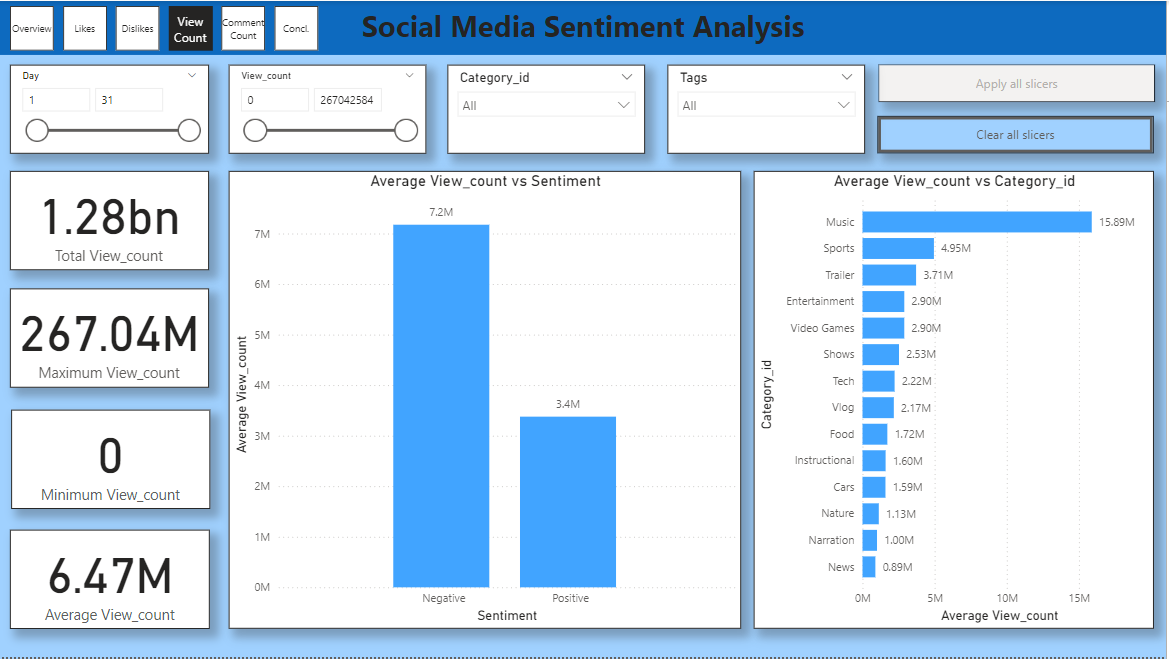

What the dashboard file says about the page in this screenshot:
{"tool":"powerbi","page":{"name":"View Count","canvas":[1280,720],"ordinal":3},"visuals":[{"type":"shape","box":[0,0,1280.3,59],"z":0},{"type":"textbox","box":[0,0,1280.3,59],"z":1000},{"type":"slicer","fields":{"Values":["gold_df (2).Published_at.Variation.Date Hierarchy.Day"]},"box":[11,70,218.2,97.4],"z":2000},{"type":"card","fields":{"Values":["Avg(gold_df (2).View_count)"]},"box":[11,580.4,219.6,108.4],"z":3000},{"type":"card","fields":{"Values":["Sum(gold_df (2).View_count)"]},"box":[11,186.6,218.2,108.4],"z":4000},{"type":"card","fields":{"Values":["Min(gold_df (2).View_count)"]},"box":[12.3,448.7,218.2,108.4],"z":5000},{"type":"card","fields":{"Values":["Max(gold_df (2).View_count)"]},"box":[11,315.6,218.2,108.4],"z":6000},{"type":"pageNavigator","box":[11,5.5,341,49.4],"z":7000},{"type":"slicer","fields":{"Values":["gold_df (2).View_count"]},"box":[251.1,70,216.8,97.4],"z":8000},{"type":"clusteredColumnChart","title":"Average View_count vs Sentiment","fields":{"Category":["gold_df (2).Sentiment"],"Y":["Avg(gold_df (2).View_count)"]},"box":[251.1,186.6,562.6,502.2],"z":9000},{"type":"clusteredBarChart","title":"Average View_count vs Category_id","fields":{"Y":["Avg(gold_df (2).View_count)"],"Category":["gold_df (2).Category_id"]},"box":[827.4,186.6,439.1,502.2],"z":10000},{"type":"actionButton","box":[964.7,70,303.3,41.2],"z":11000},{"type":"actionButton","box":[963.3,126.2,303.3,41.2],"z":12000},{"type":"slicer","fields":{"Values":["gold_df (2).Category_id"]},"box":[491.3,70,216.8,97.4],"z":13000},{"type":"slicer","fields":{"Values":["gold_df (2).Tags"]},"box":[732.8,70,216.8,97.4],"z":14000}]}

Visuals, with their boxes in screenshot pixels (x1, y1, x2, y2), scaled from the page's 1280x720 canvas onto the 1169x659 screenshot:
shape: <box>0,0,1168,54</box>
textbox: <box>0,0,1168,54</box>
slicer - gold_df (2).Published_at.Variation.Date Hierarchy.Day: <box>10,64,209,153</box>
card - Avg(gold_df (2).View_count): <box>10,531,211,630</box>
card - Sum(gold_df (2).View_count): <box>10,171,209,270</box>
card - Min(gold_df (2).View_count): <box>11,411,211,510</box>
card - Max(gold_df (2).View_count): <box>10,289,209,388</box>
pageNavigator: <box>10,5,321,50</box>
slicer - gold_df (2).View_count: <box>229,64,427,153</box>
"Average View_count vs Sentiment" clusteredColumnChart: <box>229,171,743,630</box>
"Average View_count vs Category_id" clusteredBarChart: <box>756,171,1157,630</box>
actionButton: <box>881,64,1158,102</box>
actionButton: <box>880,116,1157,153</box>
slicer - gold_df (2).Category_id: <box>449,64,647,153</box>
slicer - gold_df (2).Tags: <box>669,64,867,153</box>
